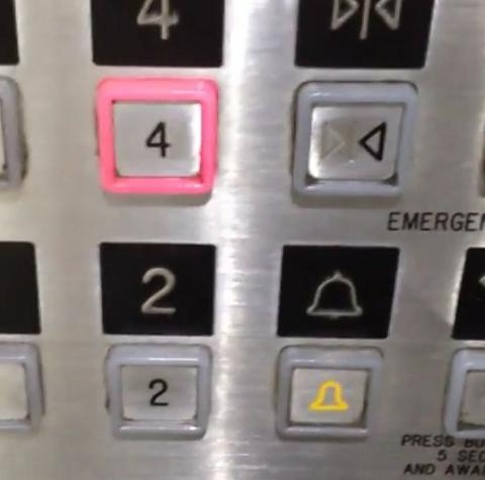2: (95, 235, 221, 341), (102, 342, 212, 439)
4: (98, 78, 215, 200)
alarm: (276, 241, 401, 341), (274, 346, 385, 441)
close: (289, 79, 418, 204)
